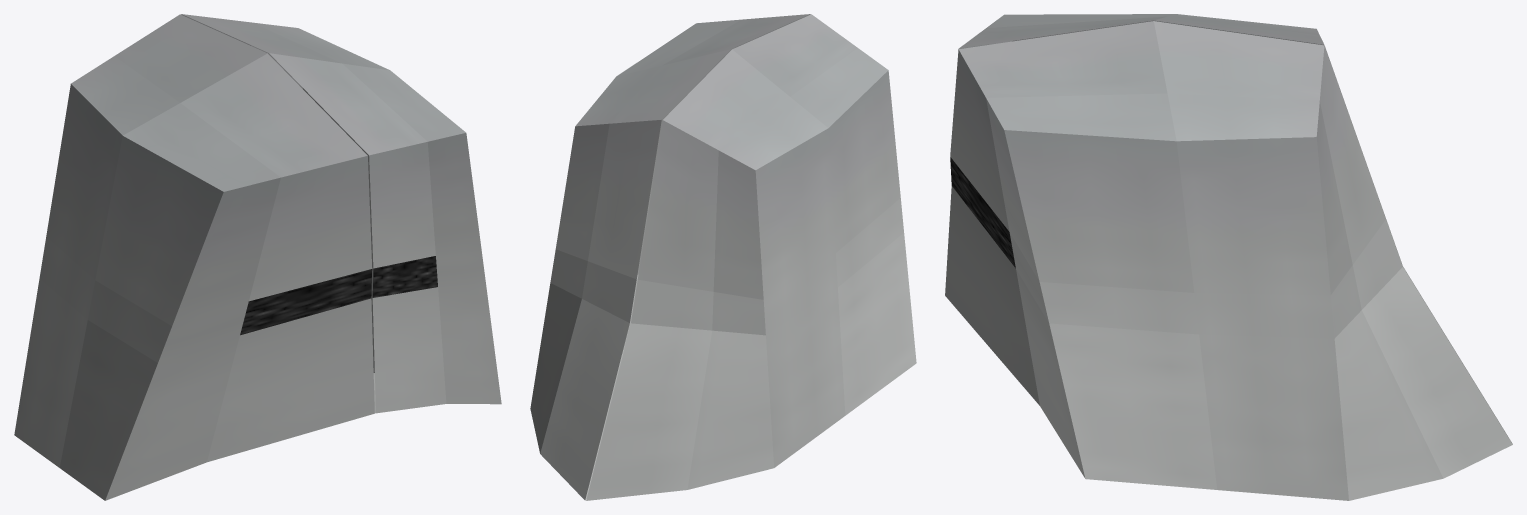
Rendered from Defender.glb.
The picture shows the model from 3 angles, left to right: view 1: azimuth 30°, elevation 25°; view 2: azimuth 150°, elevation 25°; view 3: azimuth 270°, elevation 25°; orthographic projection. The views are drawn at different scales.
Visible parts, largest first — view 1: Sallet; view 2: Sallet; view 3: Sallet.
Part boxes in pixels (bbox=[...]): Sallet: bbox=[14, 14, 501, 500]; Sallet: bbox=[530, 14, 916, 500]; Sallet: bbox=[945, 14, 1512, 500].
Bounding box in the file's own units: 0.6541 × 0.6855 × 0.8324.
Materials: 1 (1 with a texture image).
